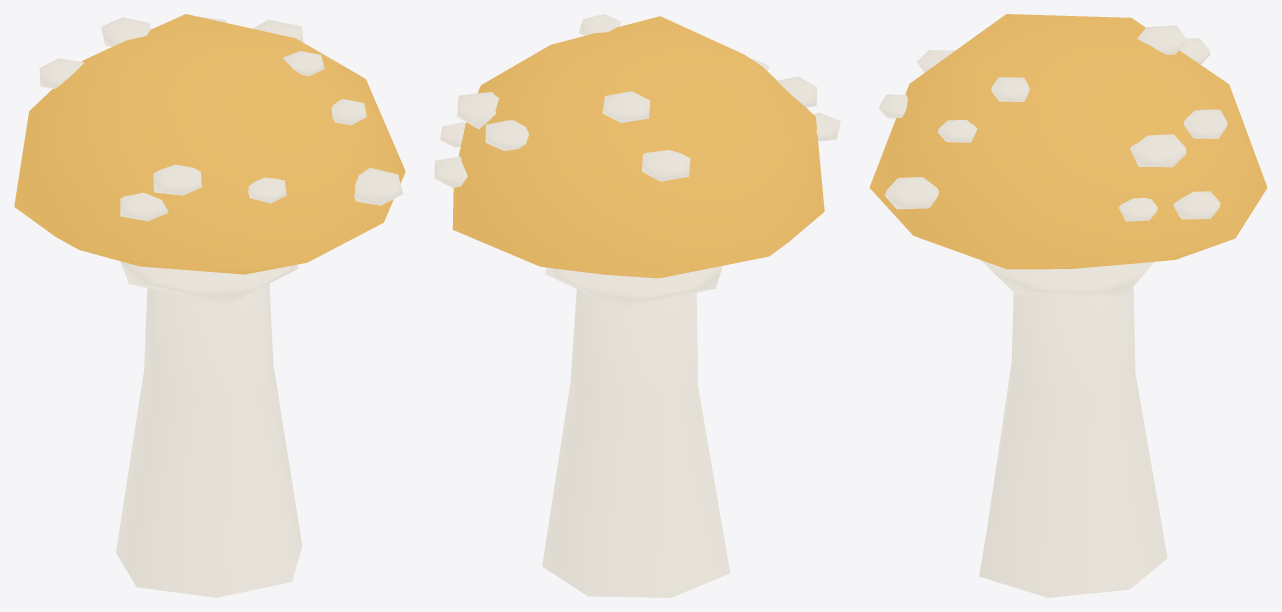
File: Blender_Toadstool_RedTall.glb
3 views of the same model, side by side, from view 1: azimuth 30°, elevation 25°; view 2: azimuth 150°, elevation 25°; view 3: azimuth 270°, elevation 25° (orthographic).
Parts seen in each view (by area): view 1: Blender_Toadstool_RedTall; view 2: Blender_Toadstool_RedTall; view 3: Blender_Toadstool_RedTall.
Part boxes in pixels (bbox=[...]): Blender_Toadstool_RedTall: bbox=[14, 14, 405, 597]; Blender_Toadstool_RedTall: bbox=[434, 14, 840, 597]; Blender_Toadstool_RedTall: bbox=[869, 14, 1267, 597].
Size of the model in its own units: 0.5795 by 0.8742 by 0.6052.
